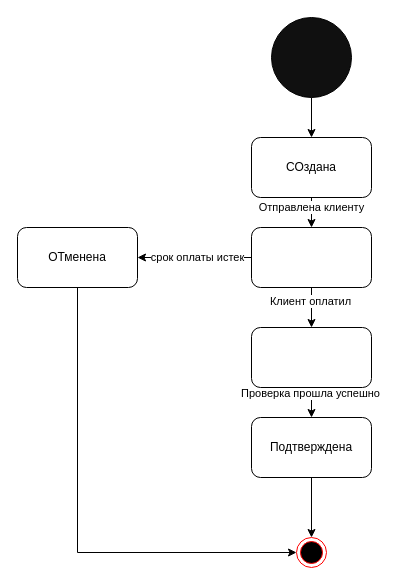
Some shapes in this 397 by 585 pixel diagram are drawn without their labels. The shapes that lost their labels are listed below. From the top down, each one's box as (x1, y1, x2, y2) in pixels, then its label:
(250, 226, 372, 288): Ожидает оплаты
(250, 326, 372, 388): Оплачена
